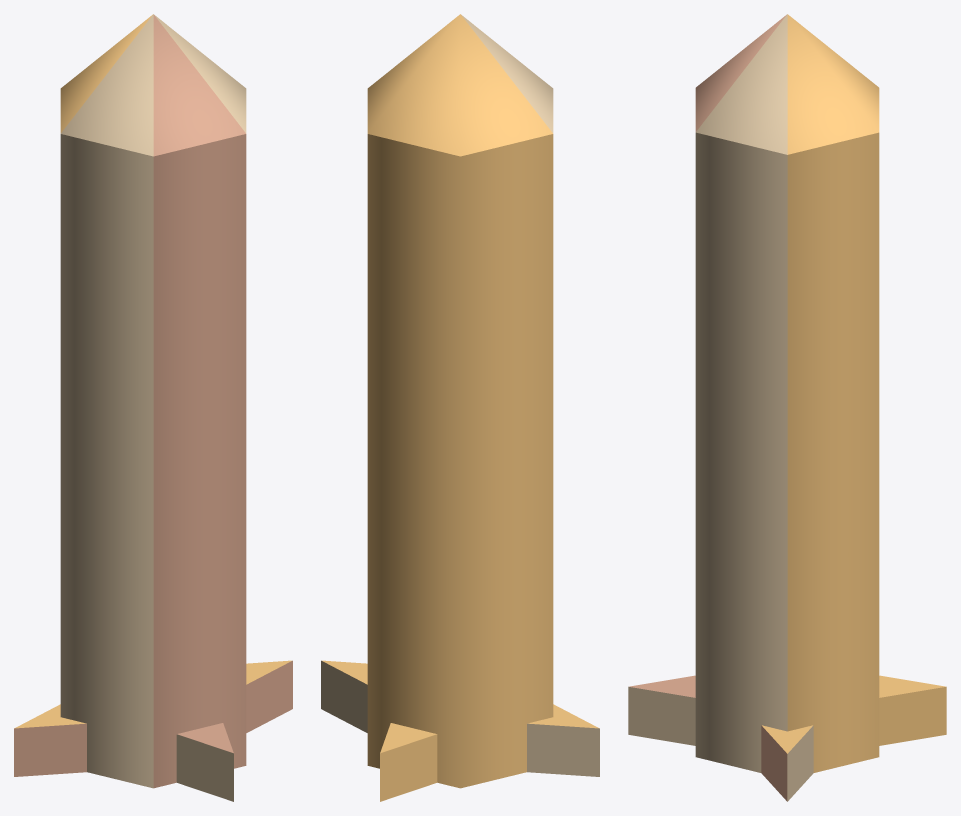
File: Solo.MissileMesh.WhiteNova.glb
3 renders of one model, left to right at view 1: azimuth 30°, elevation 25°; view 2: azimuth 150°, elevation 25°; view 3: azimuth 270°, elevation 25°, orthographic.
Parts seen in each view (by area): view 1: Solo.MissileMesh.WhiteNova; view 2: Solo.MissileMesh.WhiteNova; view 3: Solo.MissileMesh.WhiteNova.
Boxes of the visible parts, <box> form: Solo.MissileMesh.WhiteNova: <box>14,14,292,801</box>; Solo.MissileMesh.WhiteNova: <box>321,14,599,801</box>; Solo.MissileMesh.WhiteNova: <box>628,14,946,801</box>.
Bounding box in the file's own units: 0.6 × 1.5 × 0.6.
Materials: 1 (1 with a texture image).
